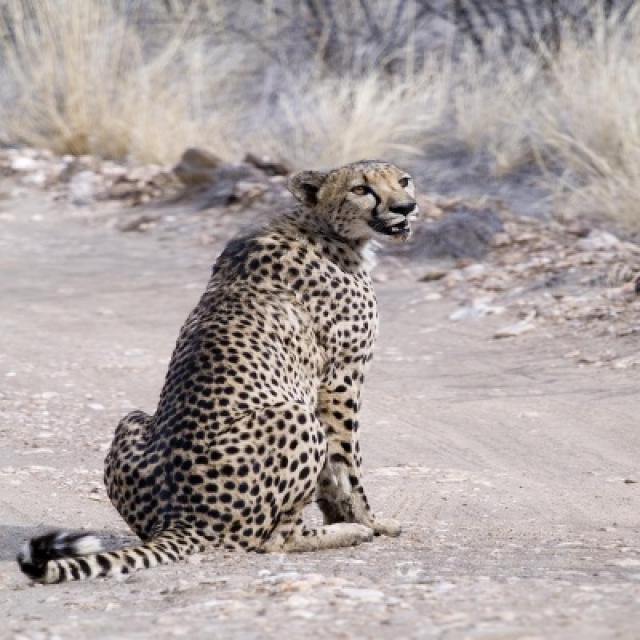Cheetah: (18, 160, 418, 584)
